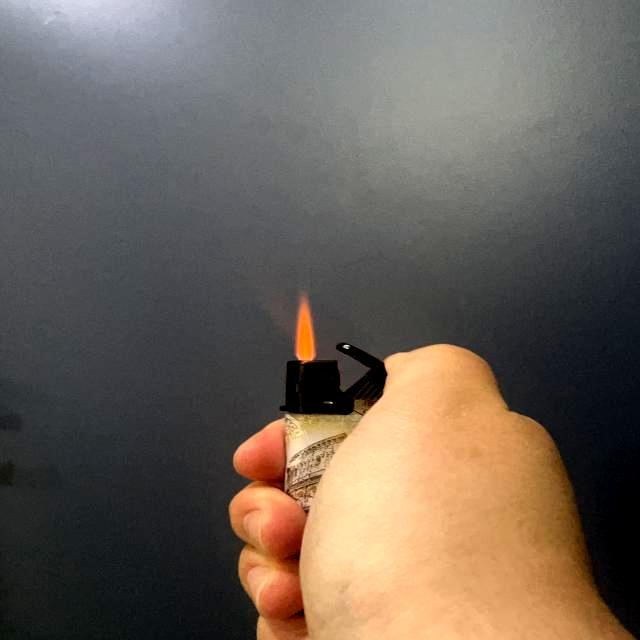fire: (290, 288, 320, 362)
